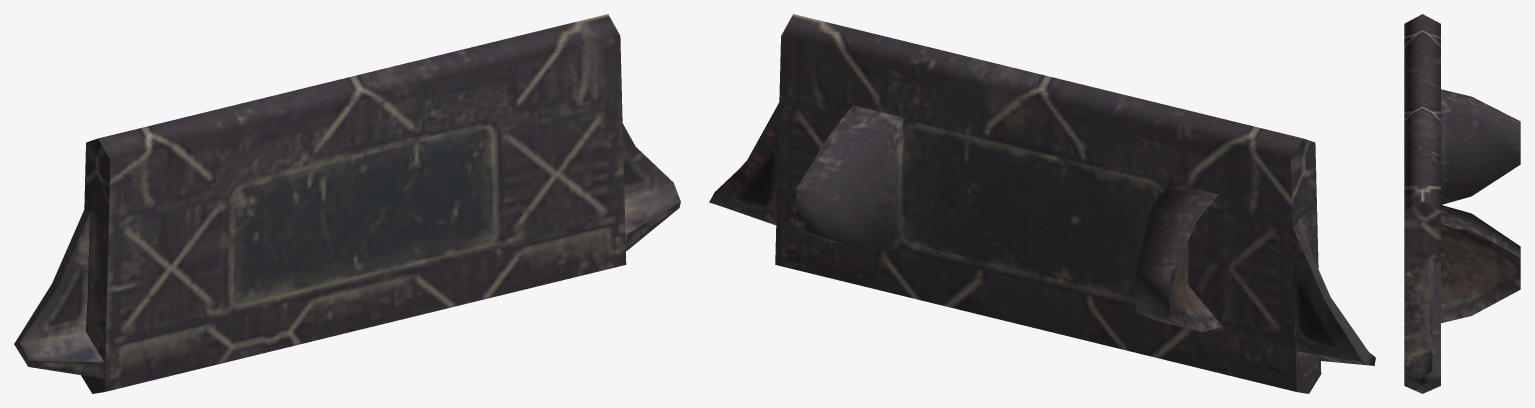
3 views of the same model, side by side, from view 1: azimuth 30°, elevation 25°; view 2: azimuth 150°, elevation 25°; view 3: azimuth 270°, elevation 25° (orthographic). The views are drawn at different scales.
Visible parts, largest first — view 1: set_0_group_0; view 2: set_0_group_0; view 3: set_0_group_0.
Boxes of the visible parts, x1=… form: set_0_group_0: x1=14, y1=14, x2=680, y2=393; set_0_group_0: x1=709, y1=14, x2=1375, y2=393; set_0_group_0: x1=1404, y1=14, x2=1520, y2=393.
Bounding box in the file's own units: 0.4199 × 0.1559 × 0.0862.
Materials: 1 (1 with a texture image).
